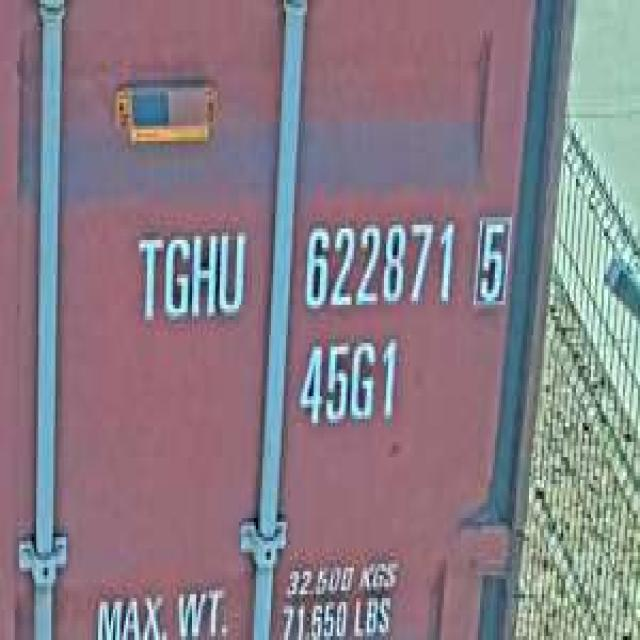dv: (469, 206, 514, 312)
owner: (130, 217, 250, 332)
serial: (296, 206, 458, 320)
size: (294, 332, 401, 434)
